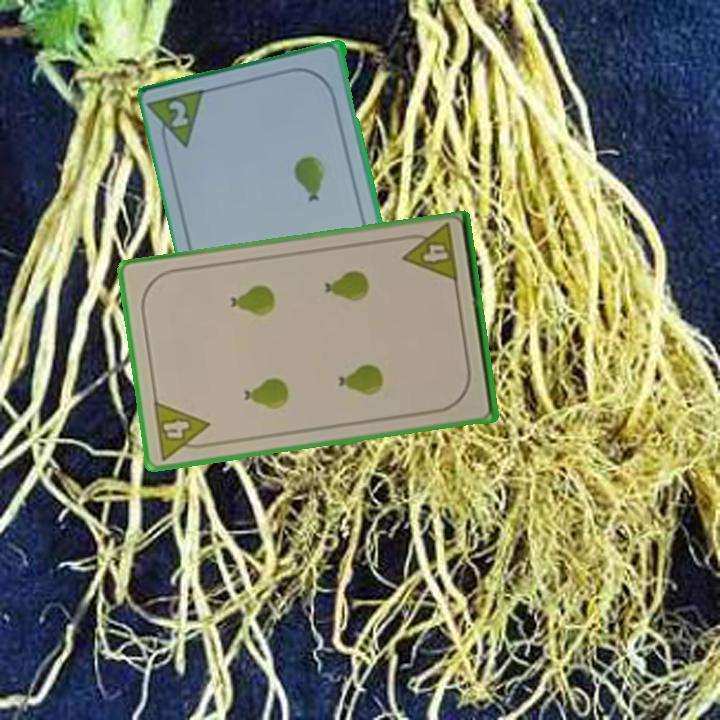2p: (166, 97, 192, 131)
4p: (149, 398, 215, 463), (397, 222, 461, 287)
